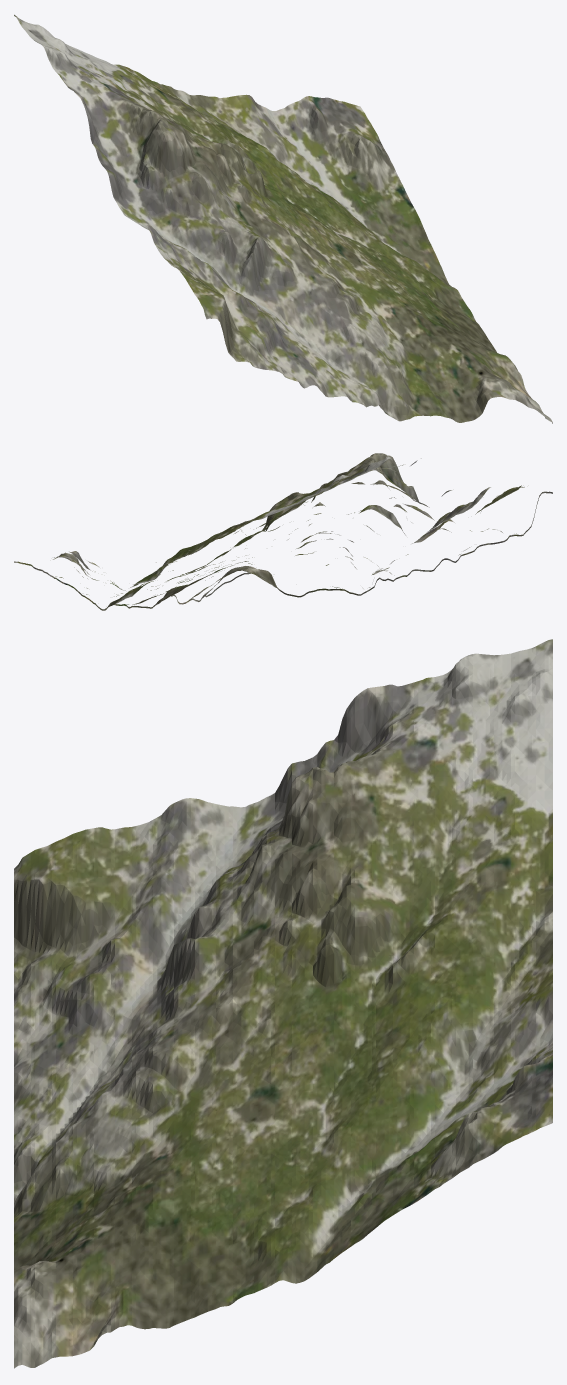
The picture shows the model from 3 angles, top to bottom: view 1: azimuth 30°, elevation 25°; view 2: azimuth 150°, elevation 25°; view 3: azimuth 270°, elevation 25°; orthographic projection. The views are drawn at different scales.
Size of the model in its own units: 250 by 244 by 241.
1 material, 1 textured.
